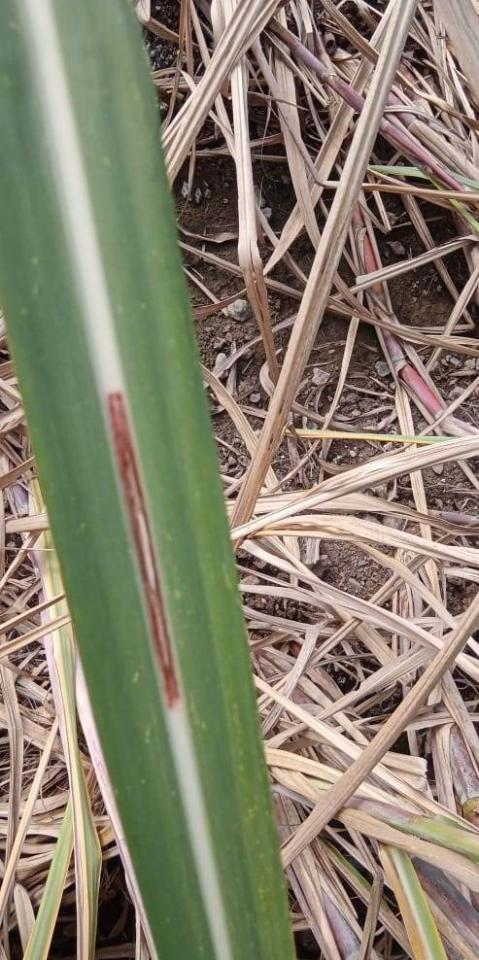RedRot: (104, 390, 183, 713)
